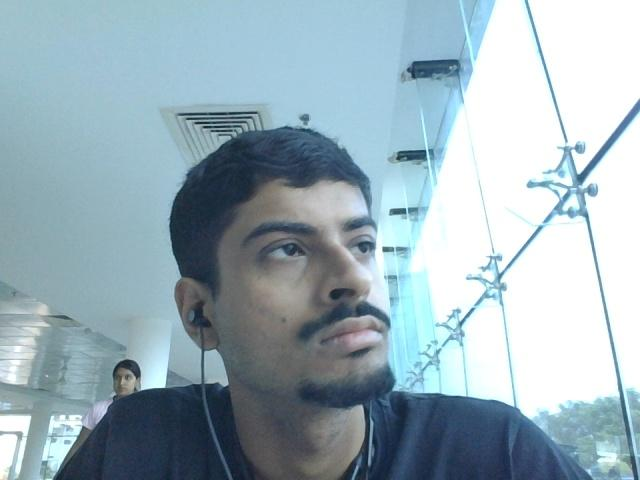average: (150, 132, 454, 435)
